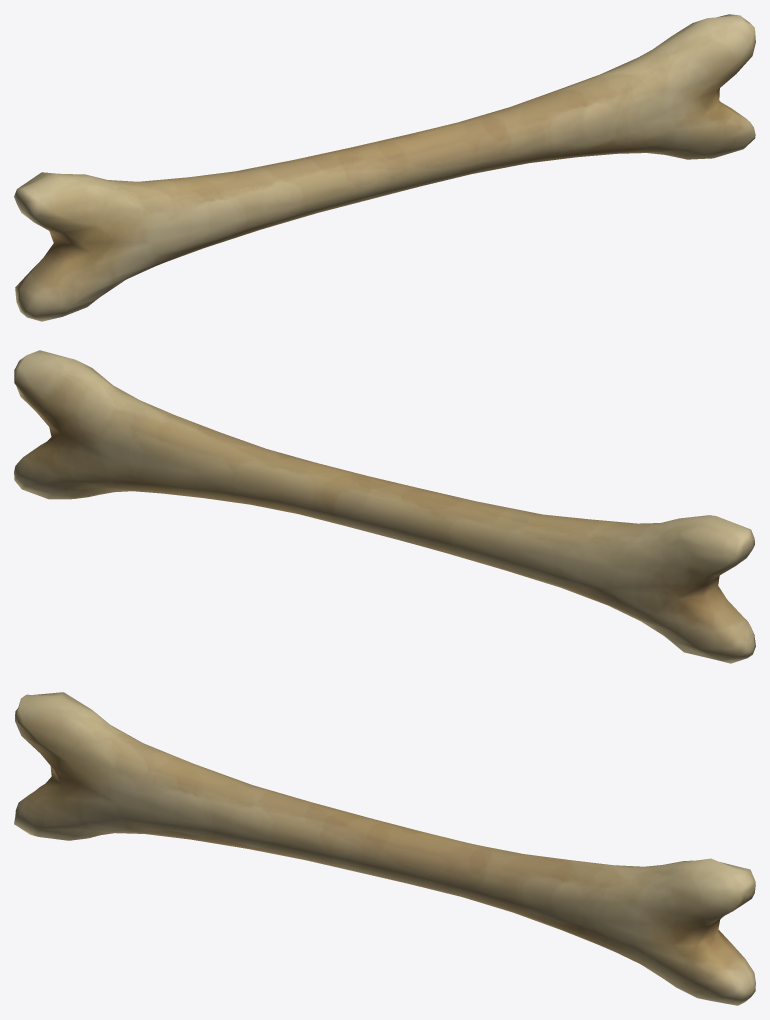
The model's file is SM_Environment_Bone.fbx.
The picture shows the model from 3 angles, top to bottom: view 1: azimuth 30°, elevation 25°; view 2: azimuth 150°, elevation 25°; view 3: azimuth 330°, elevation 25°; orthographic projection.
Visible parts, largest first — view 1: Bone; view 2: Bone; view 3: Bone.
Part boxes in pixels (x1,y1,x2,y2): Bone: (14, 14, 755, 321); Bone: (14, 350, 755, 663); Bone: (14, 692, 755, 1005).
Size of the model in its own units: 21.52 by 3.93 by 1.85.
1 material, 1 textured.
